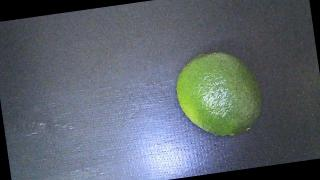EXPORTACION: (172, 47, 266, 143)
